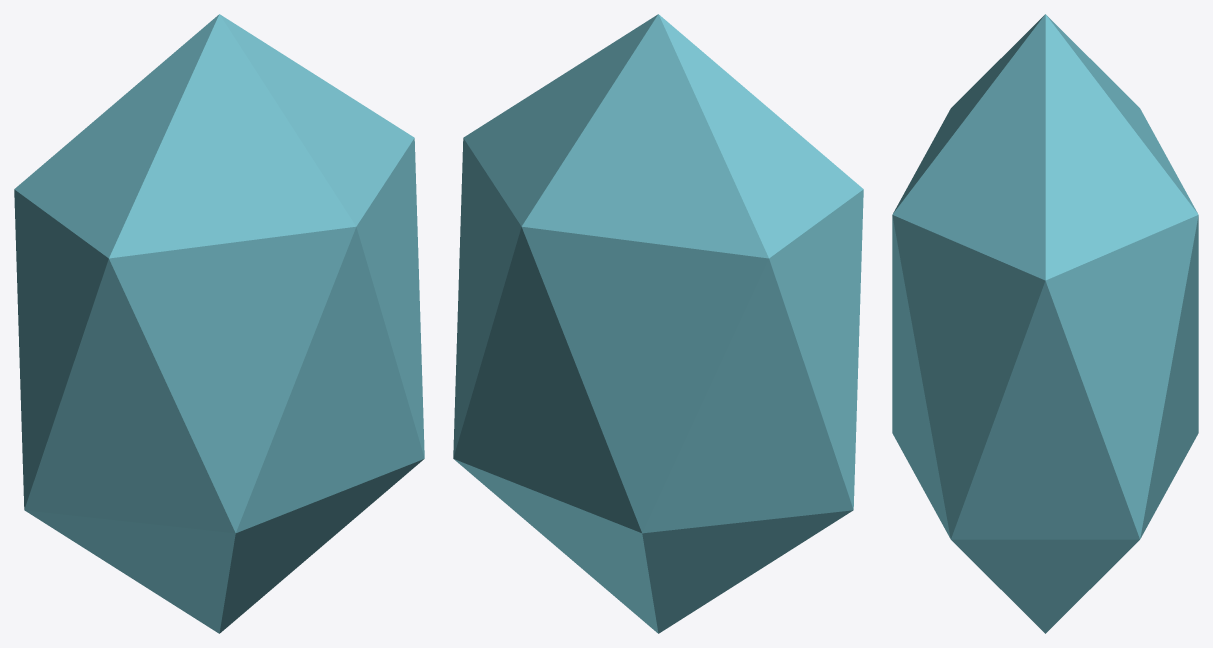
The model's file is SM_IceShard_01.glb.
3 renders of one model, left to right at view 1: azimuth 30°, elevation 25°; view 2: azimuth 150°, elevation 25°; view 3: azimuth 270°, elevation 25°, orthographic.
Visible parts, largest first — view 1: SM_IceShard_01; view 2: SM_IceShard_01; view 3: SM_IceShard_01.
Part boxes in pixels (box(x1,y1,x2,y2)): SM_IceShard_01: box(14, 14, 424, 633); SM_IceShard_01: box(453, 14, 863, 633); SM_IceShard_01: box(892, 14, 1198, 633).
Size of the model in its own units: 0.2504 by 0.38 by 0.1701.
